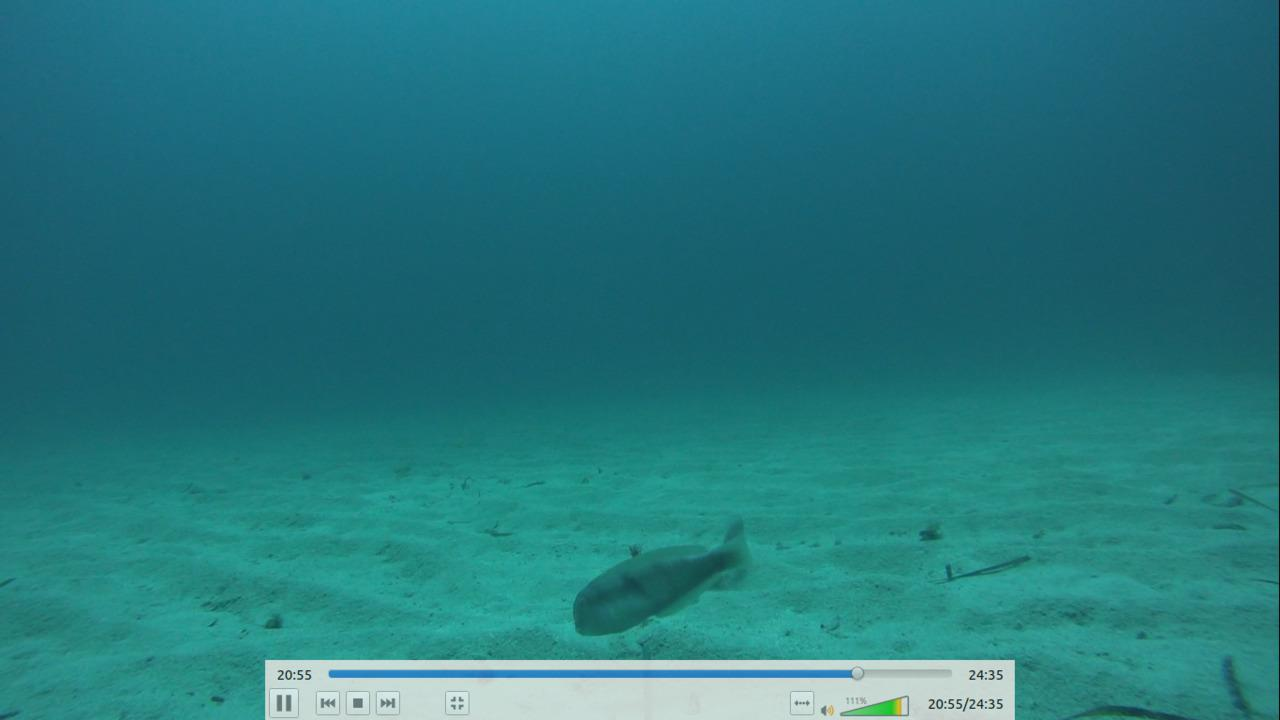raor: (568, 516, 746, 641)
